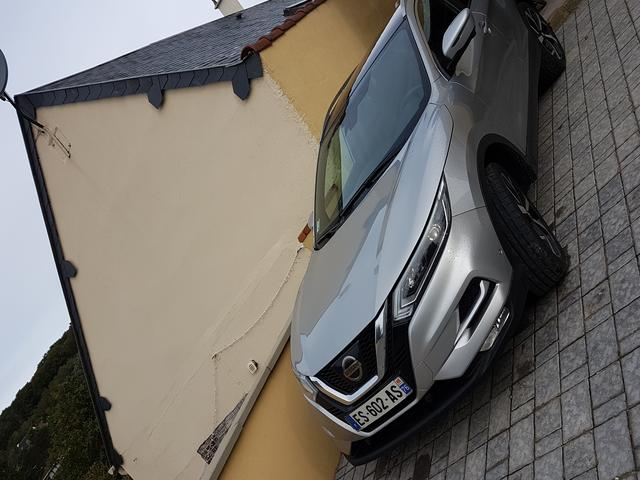Quashquai: (338, 372, 420, 435)
